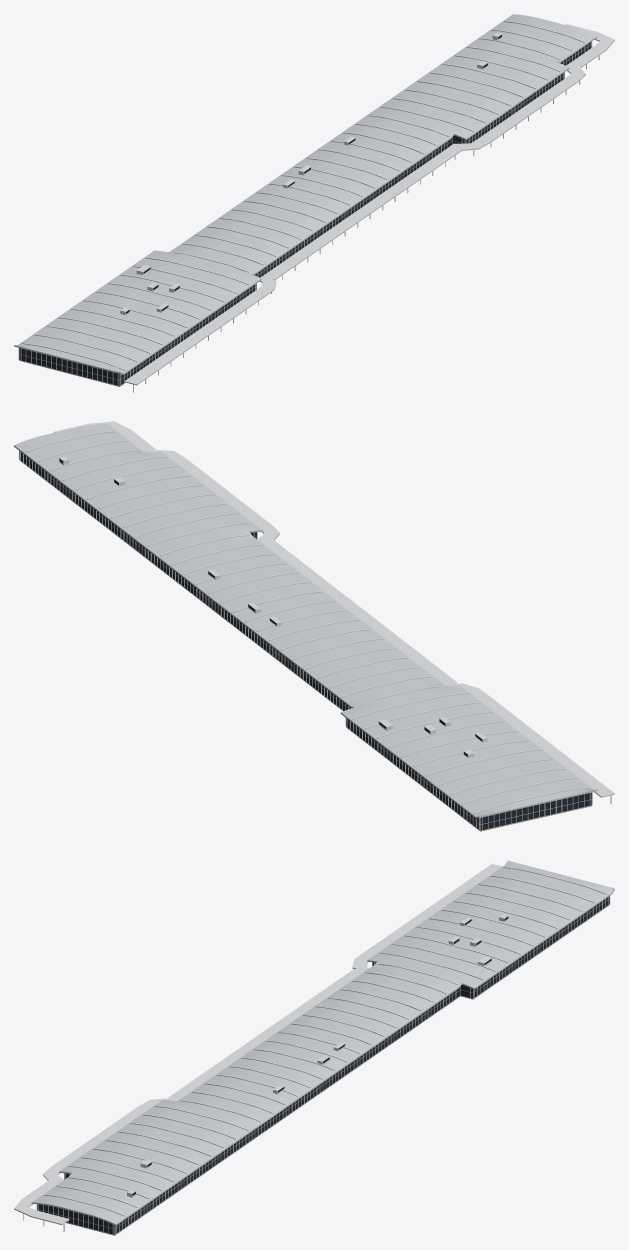
File: OMDB_terminal_2.glb
The picture shows the model from 3 angles, top to bottom: view 1: azimuth 90°, elevation 25°; view 2: azimuth 150°, elevation 25°; view 3: azimuth 270°, elevation 25°; orthographic projection. The views are drawn at different scales.
Visible parts, largest first — view 1: Terminal2_Building, Terminal2_Structure; view 2: Terminal2_Building, Terminal2_Structure; view 3: Terminal2_Building, Terminal2_Structure.
Part boxes in pixels (x1=…): Terminal2_Building: x1=14, y1=14, x2=597, y2=386; Terminal2_Structure: x1=18, y1=21, x2=614, y2=392; Terminal2_Building: x1=14, y1=424, x2=597, y2=831; Terminal2_Structure: x1=19, y1=421, x2=614, y2=830; Terminal2_Building: x1=31, y1=860, x2=614, y2=1235; Terminal2_Structure: x1=14, y1=864, x2=610, y2=1234.
Size of what is drawn, in the model's own units: 656 by 16.98 by 456.
